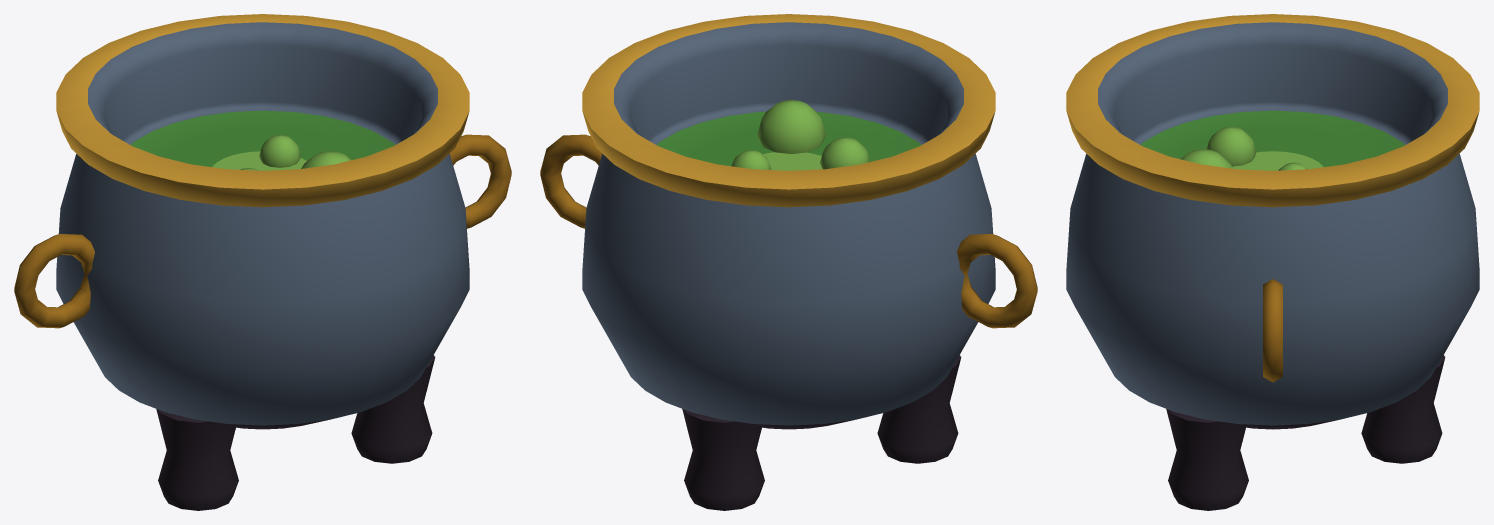
The model's file is Cauldron_14.glb.
3 views of the same model, side by side, from view 1: azimuth 30°, elevation 25°; view 2: azimuth 150°, elevation 25°; view 3: azimuth 270°, elevation 25° (orthographic).
Parts seen in each view (by area): view 1: Cauldron_14; view 2: Cauldron_14; view 3: Cauldron_14.
Part boxes in pixels (<box>): Cauldron_14: <box>14,14,511,510</box>; Cauldron_14: <box>540,14,1037,510</box>; Cauldron_14: <box>1066,14,1479,510</box>.
Bounding box in the file's own units: 3.96 × 2.68 × 2.85.
